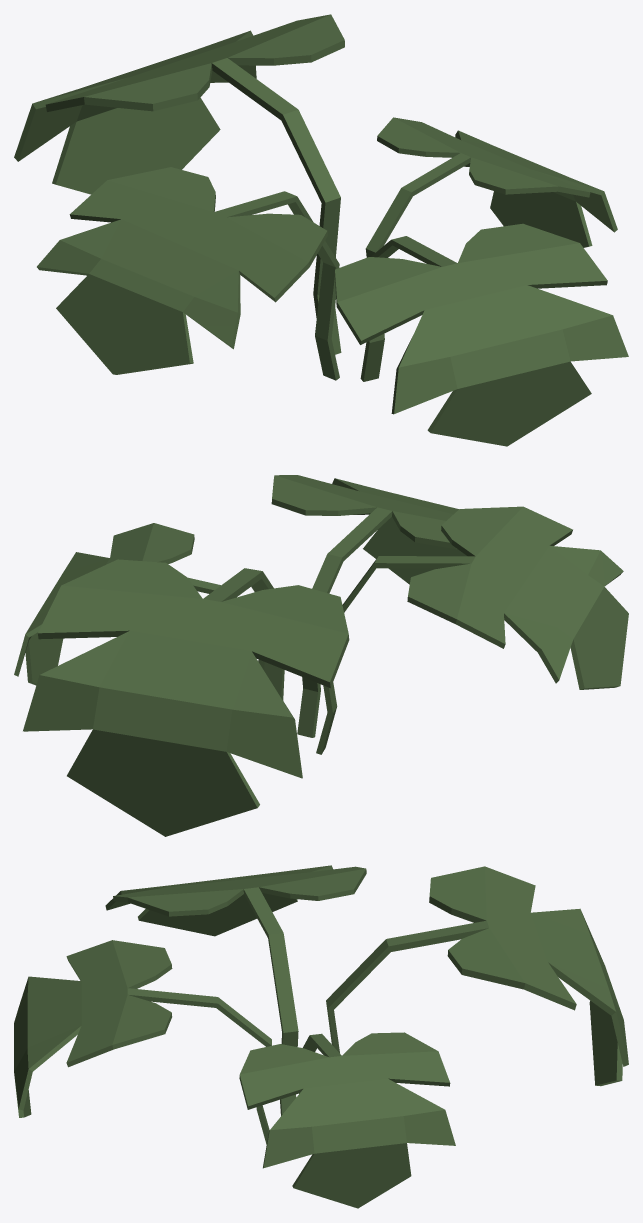
Rendered from Plant_4.glb.
3 views of the same model, one above another, from view 1: azimuth 30°, elevation 25°; view 2: azimuth 150°, elevation 25°; view 3: azimuth 270°, elevation 25° (orthographic). The views are drawn at different scales.
Visible parts, largest first — view 1: Plant_4; view 2: Plant_4; view 3: Plant_4.
Boxes of the visible parts, x1=… form: Plant_4: x1=14, y1=14, x2=628, y2=446; Plant_4: x1=14, y1=475, x2=628, y2=836; Plant_4: x1=14, y1=865, x2=628, y2=1208.
Size of the model in its own units: 1.91 by 0.8109 by 2.12.
